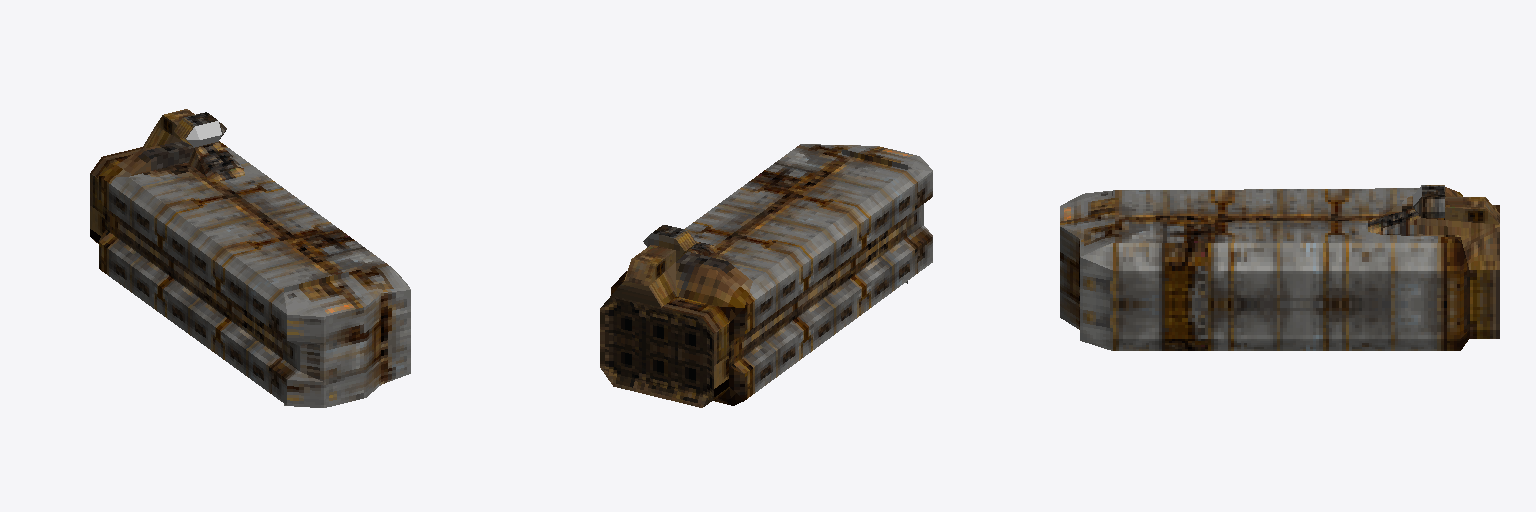
The picture shows the model from 3 angles: view 1: azimuth 30°, elevation 25°; view 2: azimuth 150°, elevation 25°; view 3: azimuth 270°, elevation 25°; orthographic projection.
Visible parts, largest first — view 1: PrisonShipold; view 2: PrisonShipold; view 3: PrisonShipold.
Part boxes in pixels (bbox=[...]): PrisonShipold: bbox=[90, 109, 410, 407]; PrisonShipold: bbox=[600, 144, 932, 407]; PrisonShipold: bbox=[1060, 185, 1499, 350].
Bounding box in the file's own units: 686 × 738 × 1950.
3 materials, 2 textured.